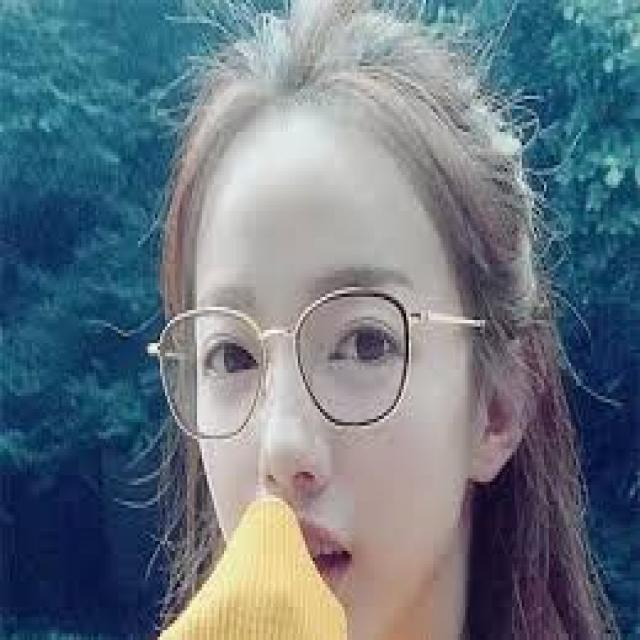Glasses: (135, 302, 492, 448)
